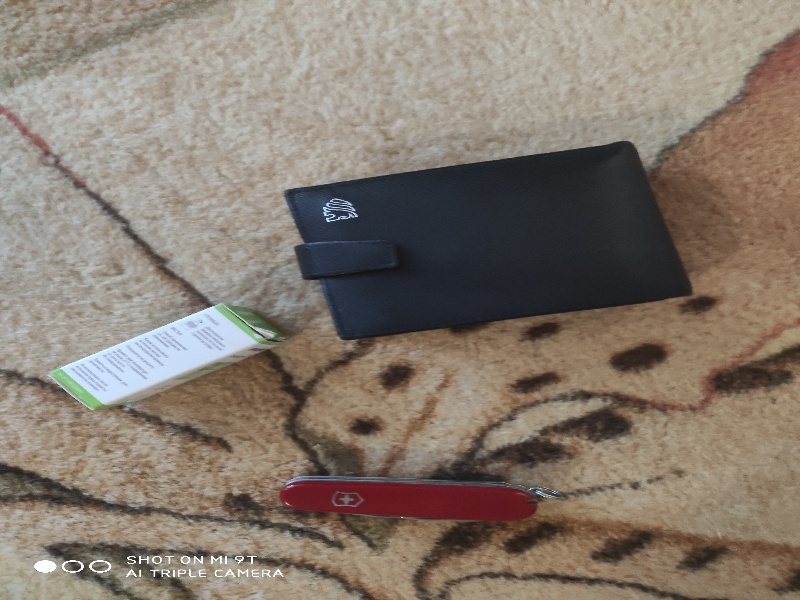ifrin: (45, 298, 275, 415)
knife: (275, 465, 551, 538)
wallet: (268, 138, 698, 348)
